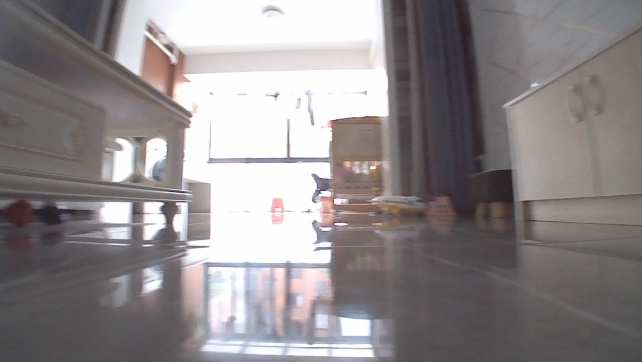TV_stand1: (498, 22, 641, 228)
tea_table1: (0, 0, 198, 227)
